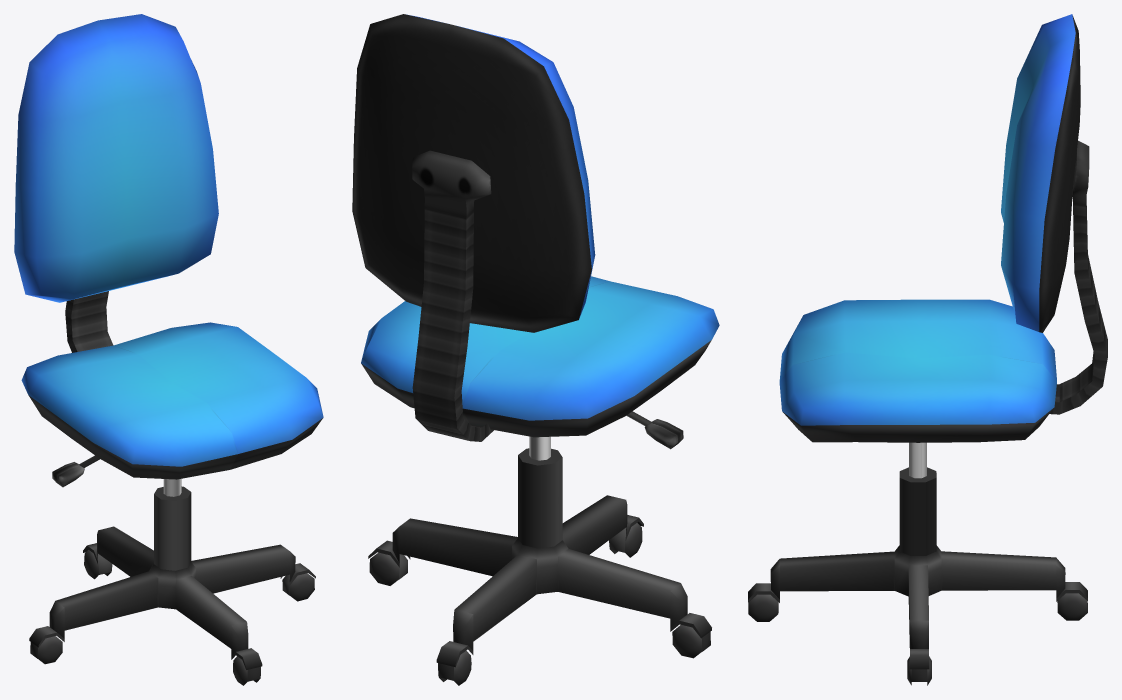
File: chair.glb
3 renders of one model, left to right at view 1: azimuth 30°, elevation 25°; view 2: azimuth 150°, elevation 25°; view 3: azimuth 270°, elevation 25°, orthographic. The views are drawn at different scales.
Parts seen in each view (by area): view 1: Chair.Spine, Chair; view 2: Chair.Spine, Chair; view 3: Chair.Spine, Chair.
Part boxes in pixels (x1=…): Chair.Spine: x1=14, y1=14, x2=323, y2=487; Chair: x1=29, y1=478, x2=315, y2=685; Chair.Spine: x1=352, y1=14, x2=719, y2=449; Chair: x1=368, y1=436, x2=711, y2=685; Chair.Spine: x1=779, y1=14, x2=1107, y2=442; Chair: x1=748, y1=442, x2=1087, y2=685.
Size of the model in its own units: 0.7421 by 1.41 by 0.7853.
Materials: 1 (1 with a texture image).
